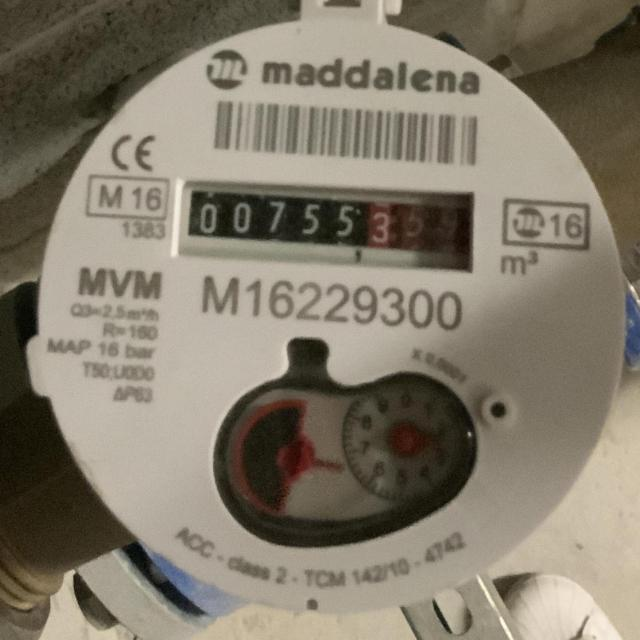gaz_meter: (34, 22, 629, 618)
indication: (186, 190, 435, 252)
